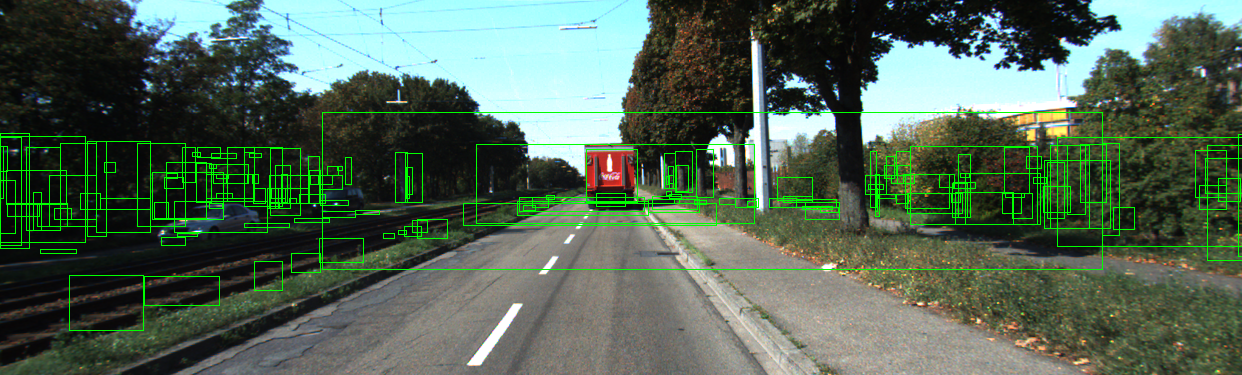car: (156, 200, 263, 248), (310, 187, 367, 221)
